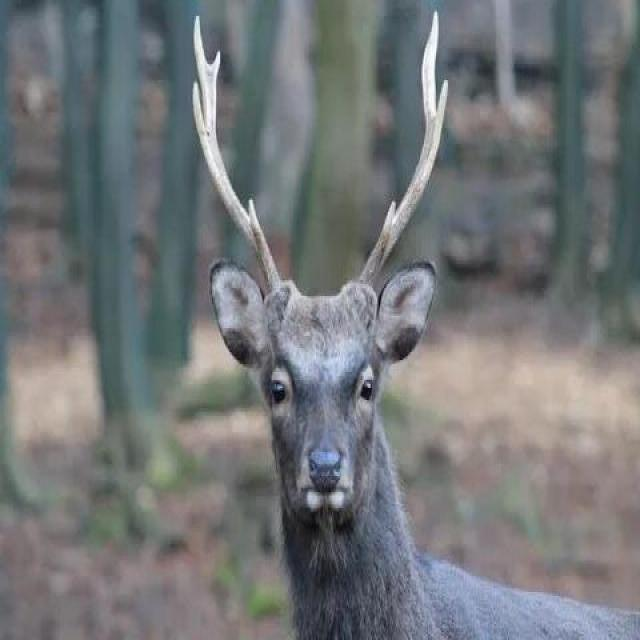deer: (182, 118, 512, 618)
